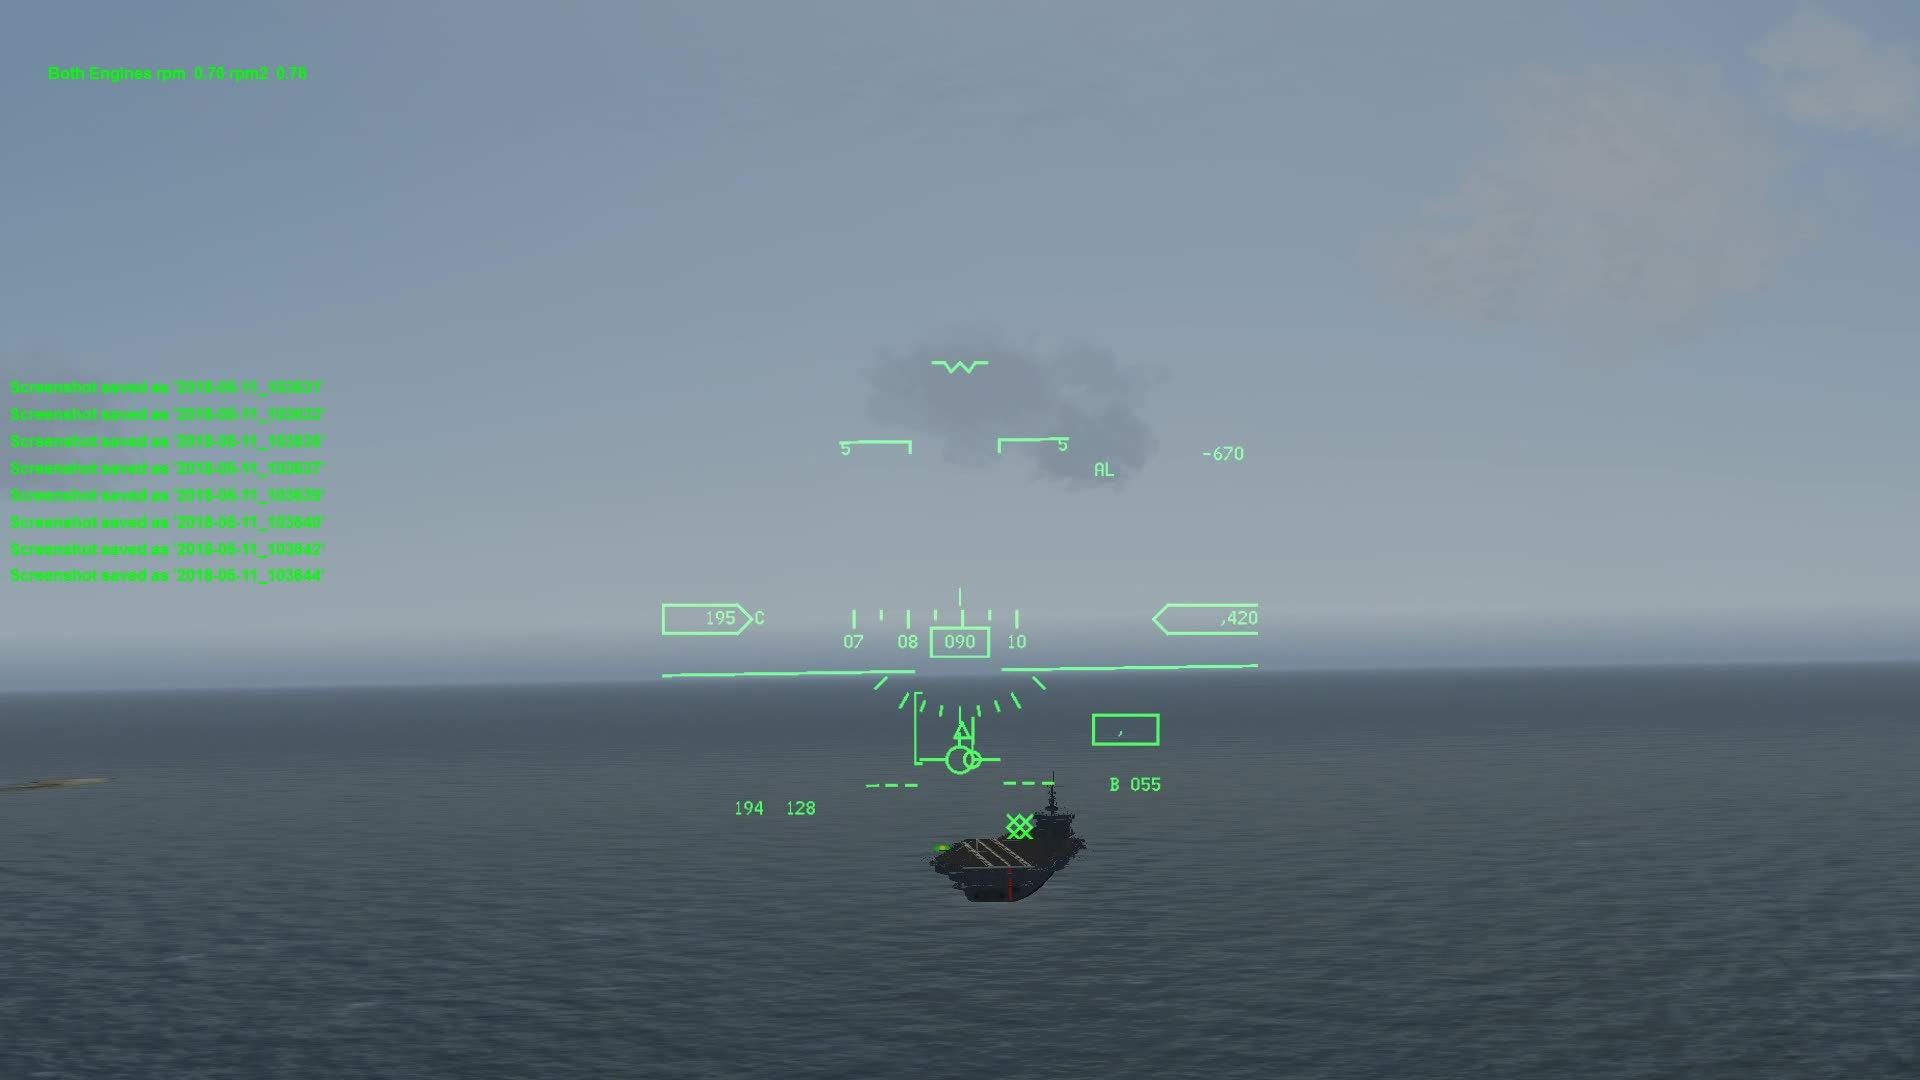speed_vector: (916, 735, 1004, 774)
